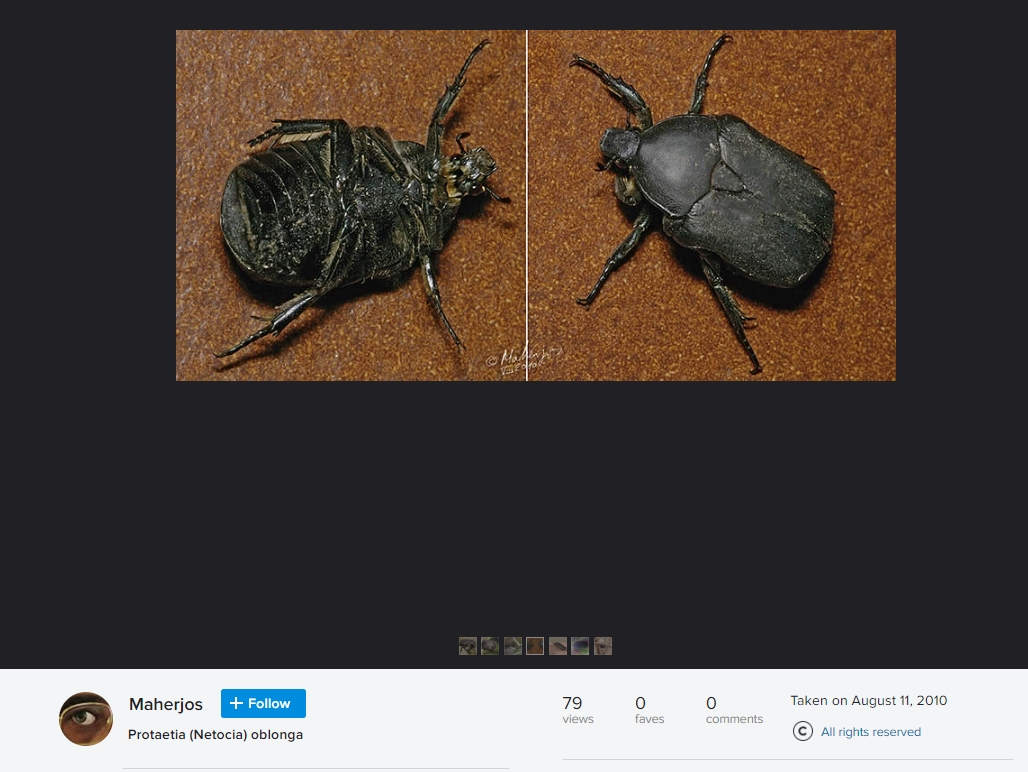Protaetia_oblonga: (562, 34, 844, 374)
